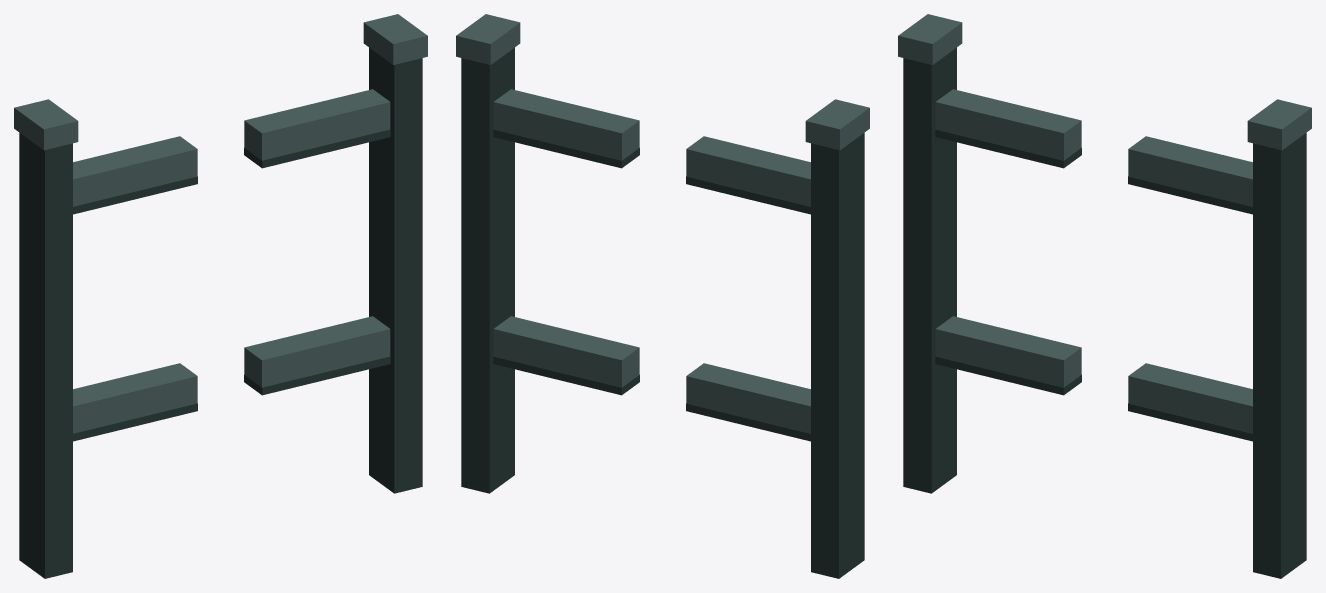
The model's file is CMU3DTurnstileHandrail.glb.
3 views of the same model, side by side, from view 1: azimuth 30°, elevation 25°; view 2: azimuth 150°, elevation 25°; view 3: azimuth 330°, elevation 25° (orthographic).
Parts seen in each view (by area): view 1: end post (×2), horizontal rail (×4), post cap (×2), rail underside (×4); view 2: end post (×2), horizontal rail (×4), post cap (×2), rail underside (×4); view 3: end post (×2), horizontal rail (×4), post cap (×2), rail underside (×4).
Part boxes in pixels (x1,y1,x2,y2): end post (×2): [19, 47, 422, 578]; horizontal rail (×4): [73, 89, 390, 433]; post cap (×2): [14, 14, 427, 150]; rail underside (×4): [73, 129, 390, 441]; end post (×2): [461, 47, 864, 578]; horizontal rail (×4): [493, 89, 810, 433]; post cap (×2): [456, 14, 869, 150]; rail underside (×4): [493, 129, 810, 441]; end post (×2): [903, 47, 1306, 578]; horizontal rail (×4): [935, 89, 1252, 433]; post cap (×2): [898, 14, 1311, 150]; rail underside (×4): [935, 129, 1252, 441].
Bounding box in the file's own units: 0.956 × 1.07 × 0.128.
